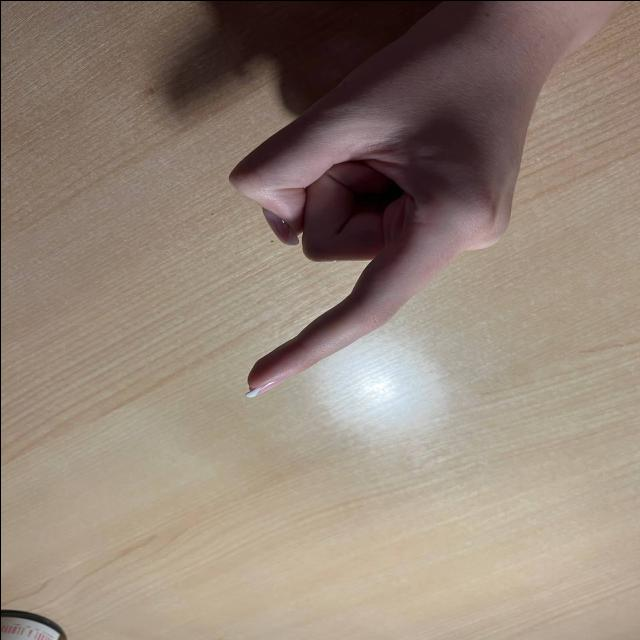z: (164, 37, 506, 435)
